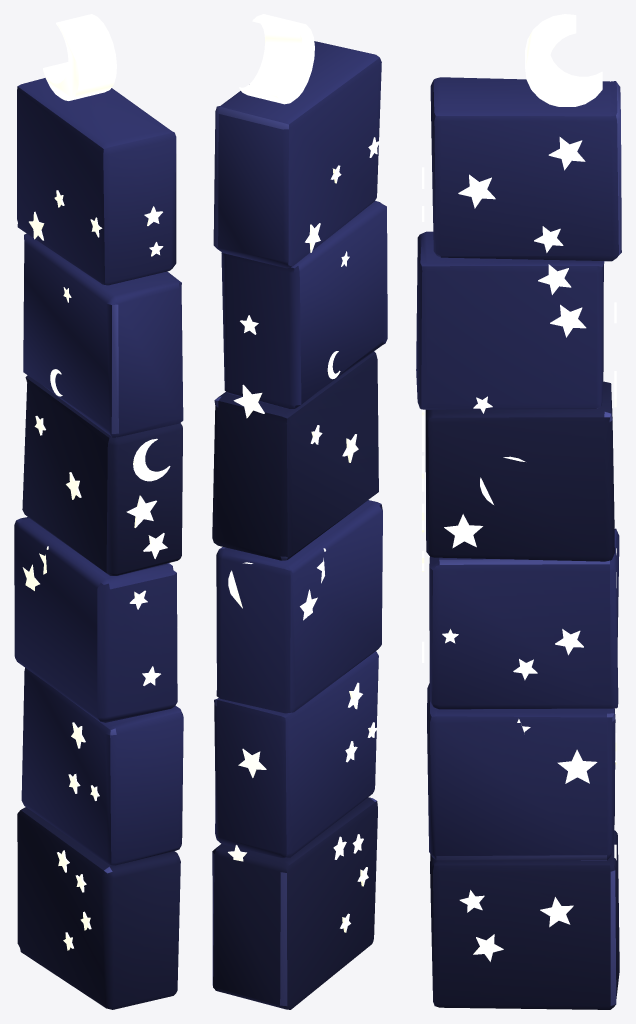
Rendered from den_night_tower.glb.
The picture shows the model from 3 angles, left to right: view 1: azimuth 30°, elevation 25°; view 2: azimuth 150°, elevation 25°; view 3: azimuth 270°, elevation 25°; orthographic projection. The views are drawn at different scales.
Parts seen in each view (by area): view 1: den_night_tower; view 2: den_night_tower; view 3: den_night_tower.
Boxes of the visible parts, x1=… form: den_night_tower: x1=14, y1=14, x2=183, y2=1009; den_night_tower: x1=212, y1=14, x2=387, y2=1009; den_night_tower: x1=416, y1=14, x2=621, y2=1009.
Size of the model in its own units: 2.65 by 28.08 by 5.4.
